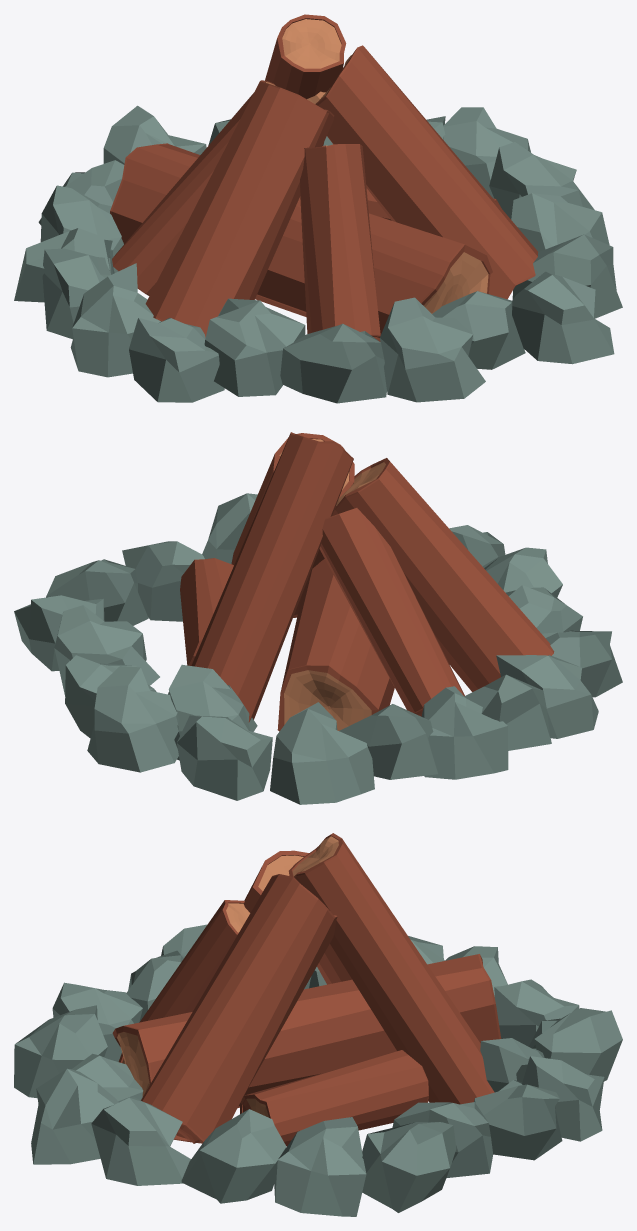
Rendered from CampFireUnlit 1.fbx.
3 views of the same model, one above another, from view 1: azimuth 30°, elevation 25°; view 2: azimuth 150°, elevation 25°; view 3: azimuth 270°, elevation 25° (orthographic). The views are drawn at different scales.
Visible parts, largest first — view 1: Cube; view 2: Cube; view 3: Cube.
Boxes of the visible parts, x1=… form: Cube: x1=14, y1=14, x2=622, y2=403; Cube: x1=14, y1=432, x2=622, y2=804; Cube: x1=14, y1=833, x2=622, y2=1216.
Bounding box in the file's own units: 595 × 291 × 605.
